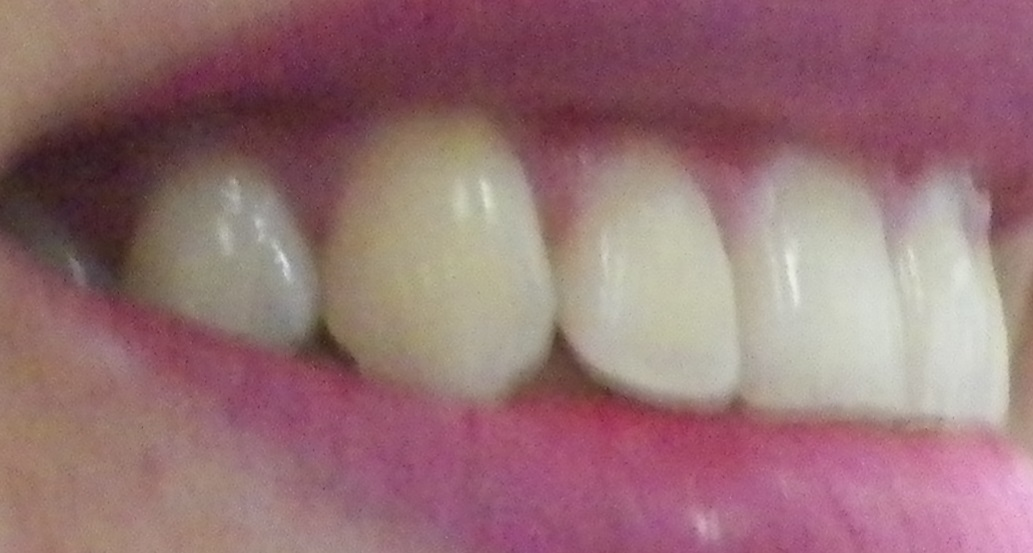boca: (47, 110, 1030, 428)
